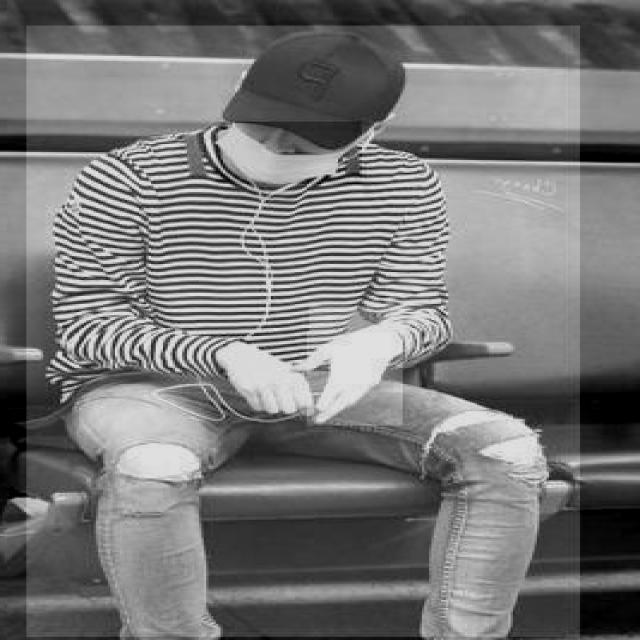face_mask: (213, 121, 362, 186)
hand_noglove: (307, 306, 403, 427), (206, 331, 324, 427)
head_nohelmet: (228, 21, 408, 131)
person: (24, 26, 580, 638)
